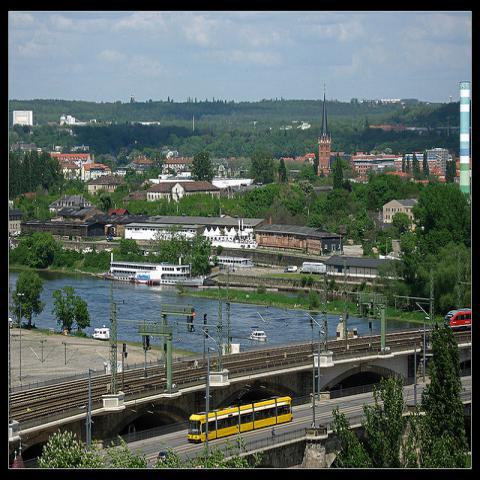car: (158, 452, 167, 460), (284, 266, 294, 272), (107, 236, 113, 242)
truck: (299, 261, 326, 275), (92, 328, 109, 340)
